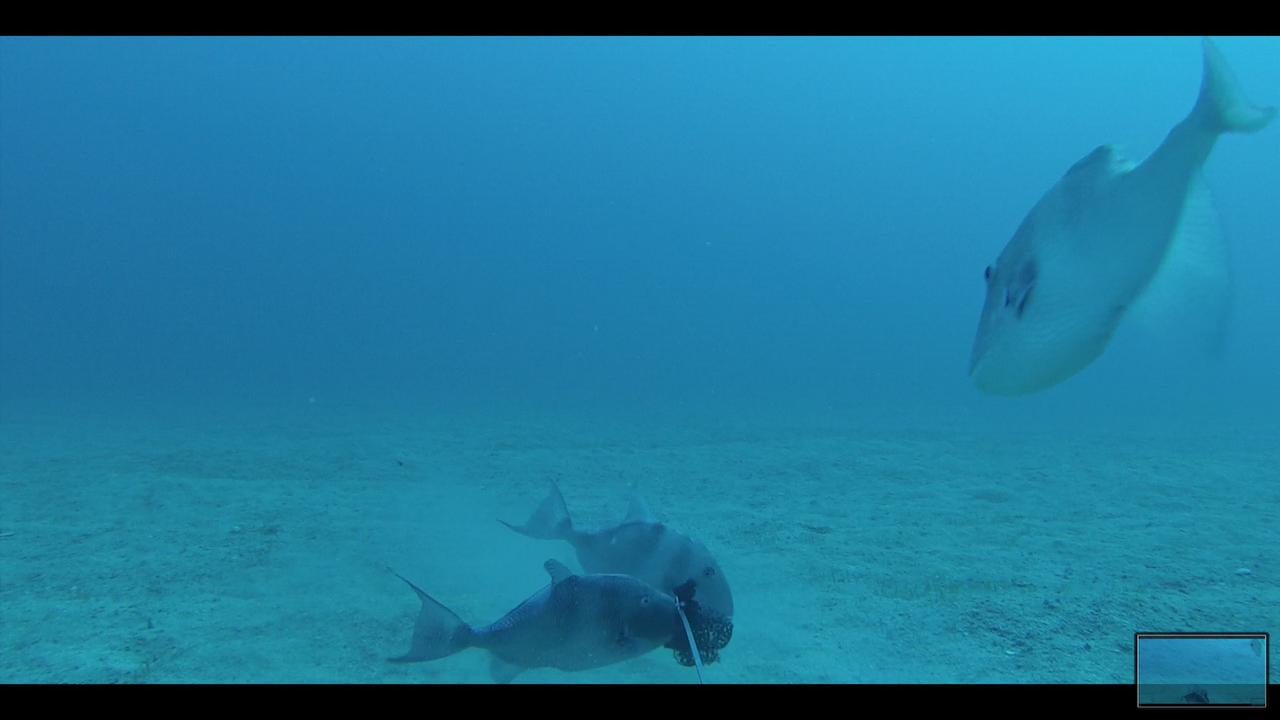balistes: (954, 36, 1278, 399), (376, 551, 671, 682), (489, 472, 732, 629)
